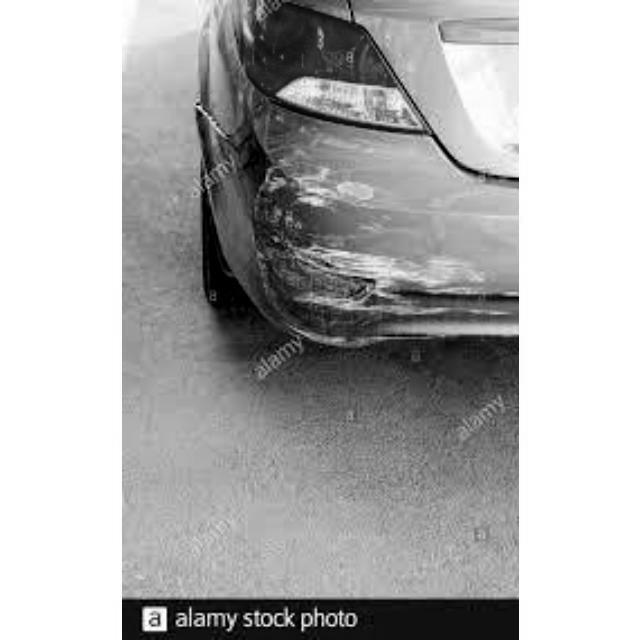rear-bumper-dent: (182, 104, 516, 402)
